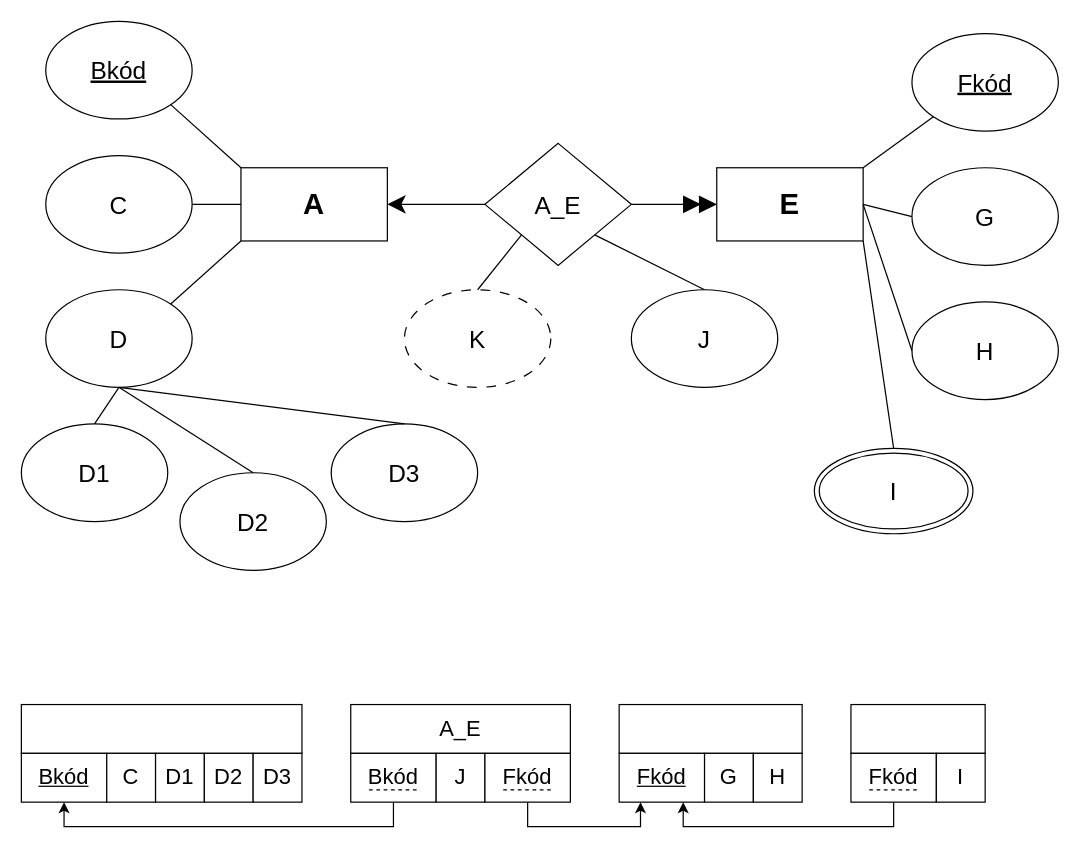
Some shapes in this 1080 by 858 pixel diagram are drawn without their labels. The shapes that lost their labels are listed below. From the top down, each one's centre as x and y in pixels, then its label:
At (x=161, y=728): "A_TABLE".
At (x=710, y=728): "E_TABLE".
At (x=917, y=728): "I_TABLE".
